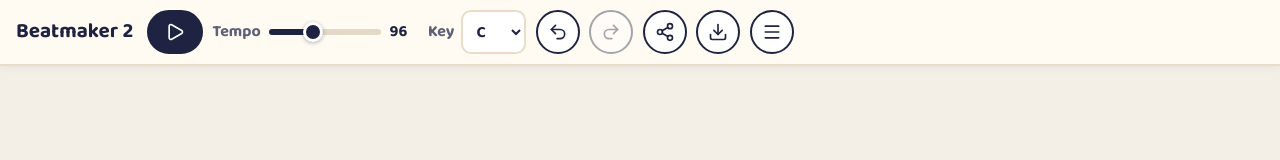
PlayBar › share copies the link
This screenshot has width=1280, height=160.
Click the button named "Share": click(665, 32) [643, 10, 687, 54]
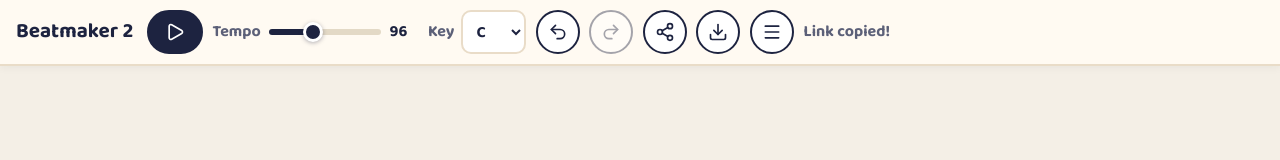
Expected: the text "Link copied!" is shown, [804, 21, 890, 43]
